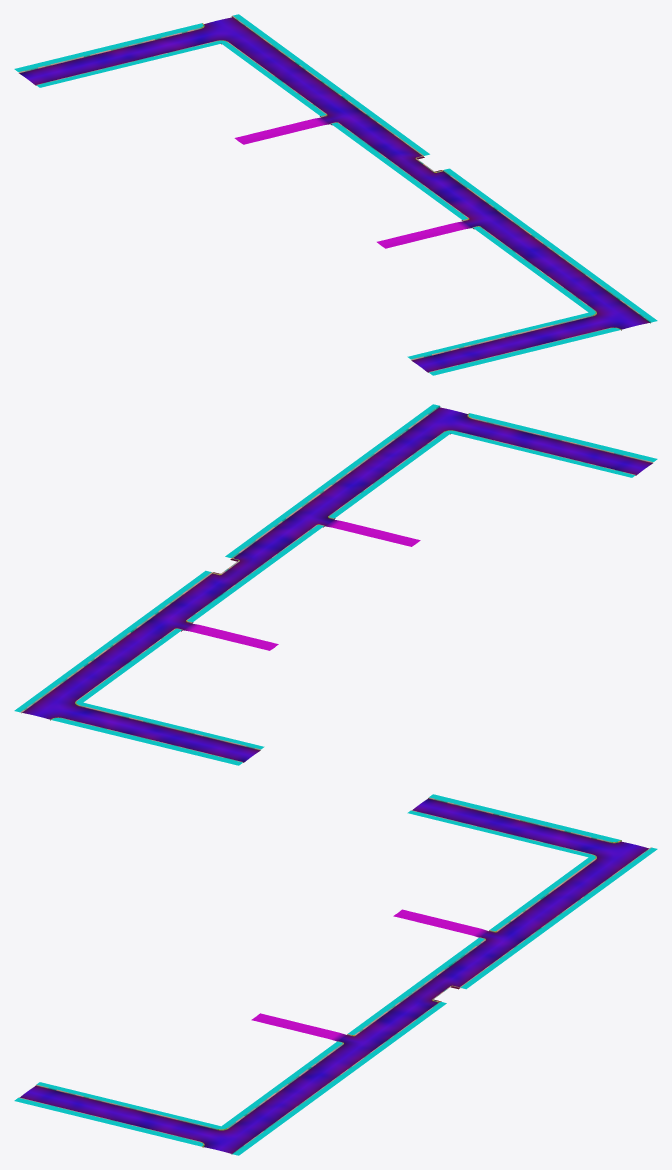
Rendered from env_lane_ground.glb.
The picture shows the model from 3 angles, top to bottom: view 1: azimuth 30°, elevation 25°; view 2: azimuth 150°, elevation 25°; view 3: azimuth 330°, elevation 25°; orthographic projection.
Parts seen in each view (by area): view 1: Lane, Walks; view 2: Lane, Walks; view 3: Lane, Walks.
Part boxes in pixels (x1,y1,x2,y2): Lane: [19, 17, 649, 372]; Walks: [14, 14, 657, 375]; Lane: [22, 407, 652, 762]; Walks: [14, 404, 657, 765]; Lane: [20, 798, 648, 1153]; Walks: [14, 794, 657, 1155].
Size of the model in its own units: 31.1 by 0.138 by 100.
